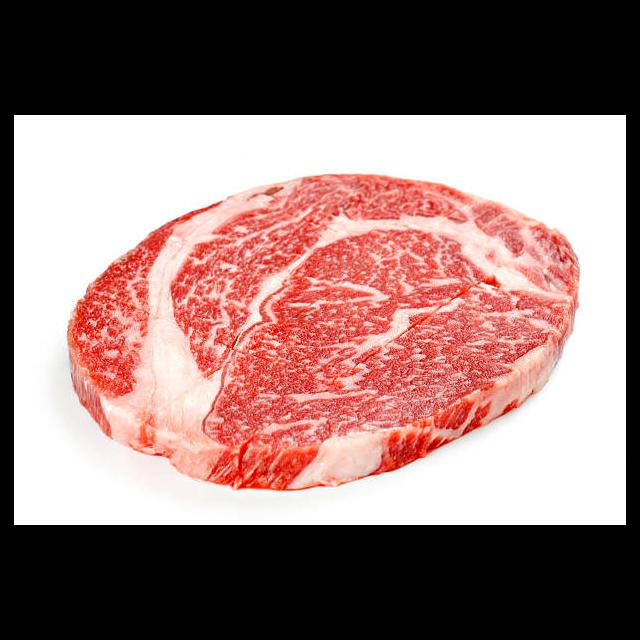beef: (68, 174, 580, 491)
